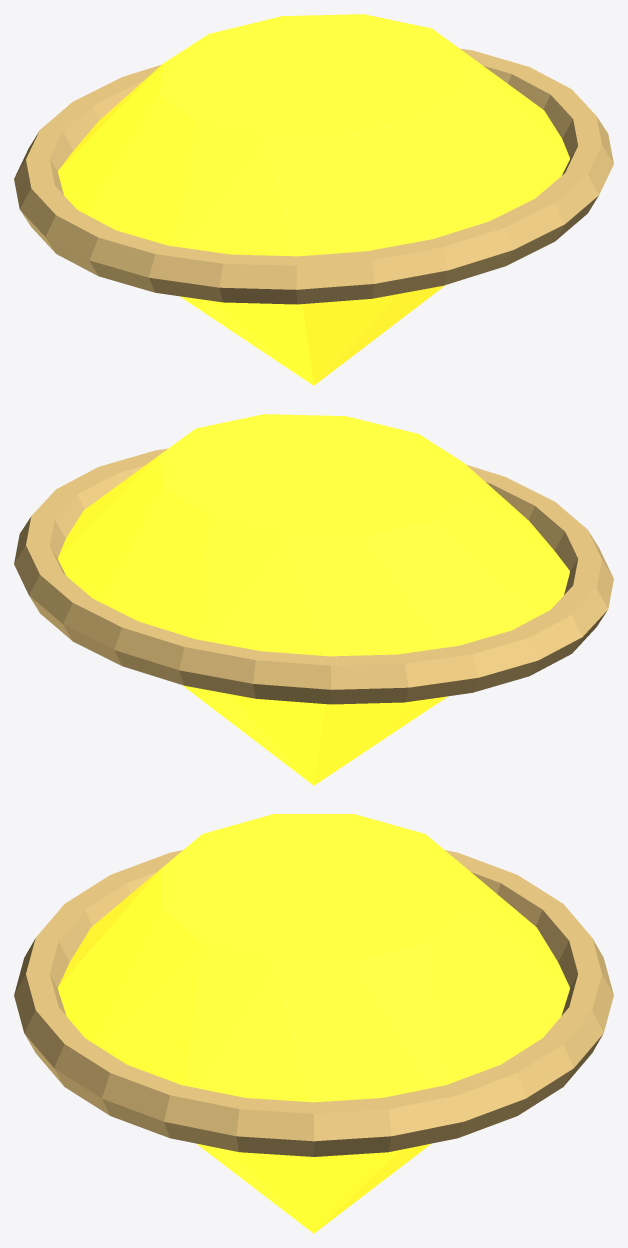
The model's file is gem_topaz_royal.glb.
The picture shows the model from 3 angles, top to bottom: view 1: azimuth 30°, elevation 25°; view 2: azimuth 150°, elevation 25°; view 3: azimuth 270°, elevation 25°; orthographic projection. The views are drawn at different scales.
Visible parts, largest first — view 1: gem_topaz_5, Torus; view 2: gem_topaz_5, Torus; view 3: gem_topaz_5, Torus.
Part boxes in pixels (x1,y1,x2,y2): gem_topaz_5: (58, 14, 569, 385); Torus: (14, 48, 613, 304); gem_topaz_5: (58, 414, 569, 785); Torus: (14, 448, 613, 704); gem_topaz_5: (58, 814, 569, 1233); Torus: (14, 850, 613, 1156).
Bounding box in the file's own units: 0.1509 × 0.0834 × 0.1312.
